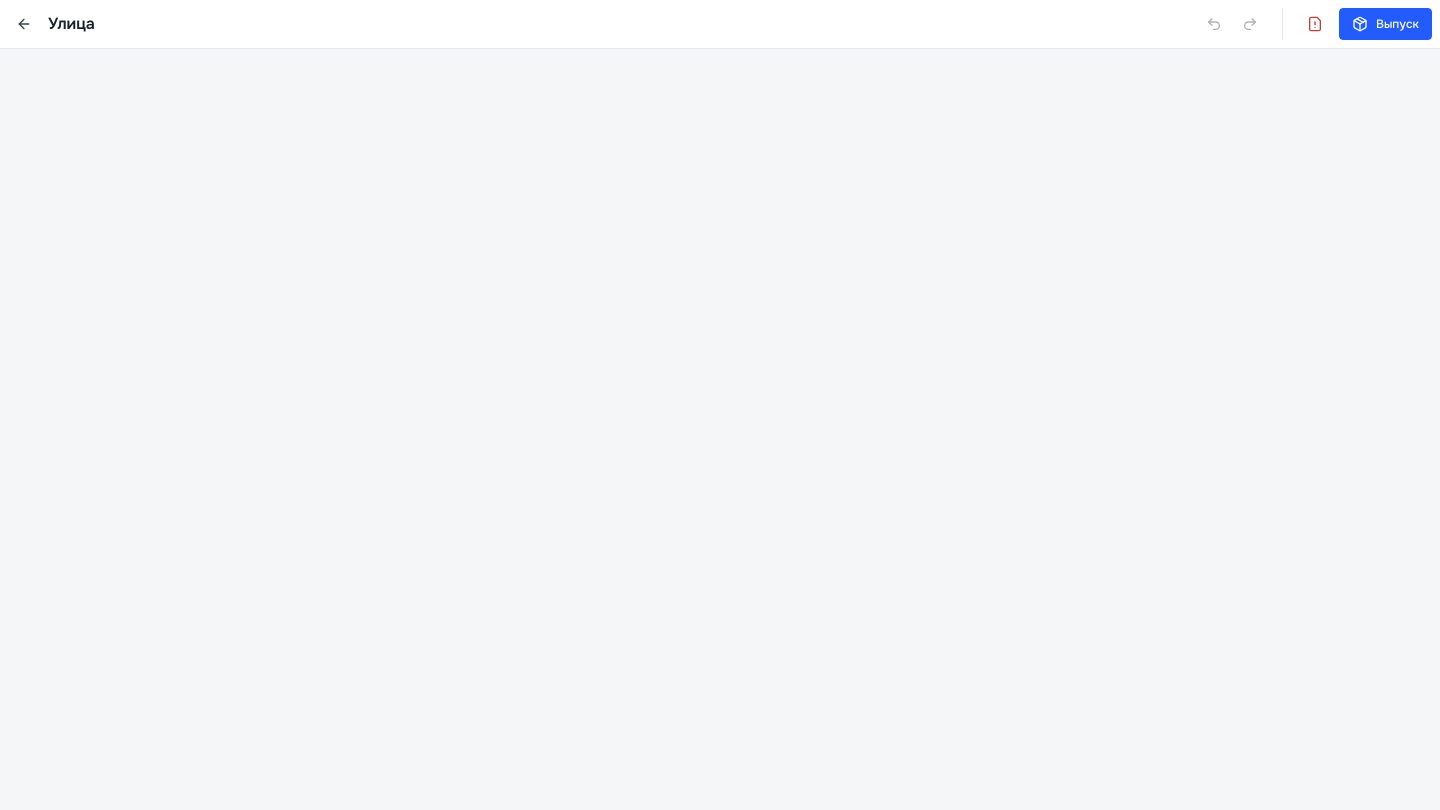
Test: Workspace header actions and status ownership › uses confirmation proof false for a recovery title
Click the button named "Открыть сведения о состоянии проекта".
click(1315, 24)  # box [1299,8,1331,40]
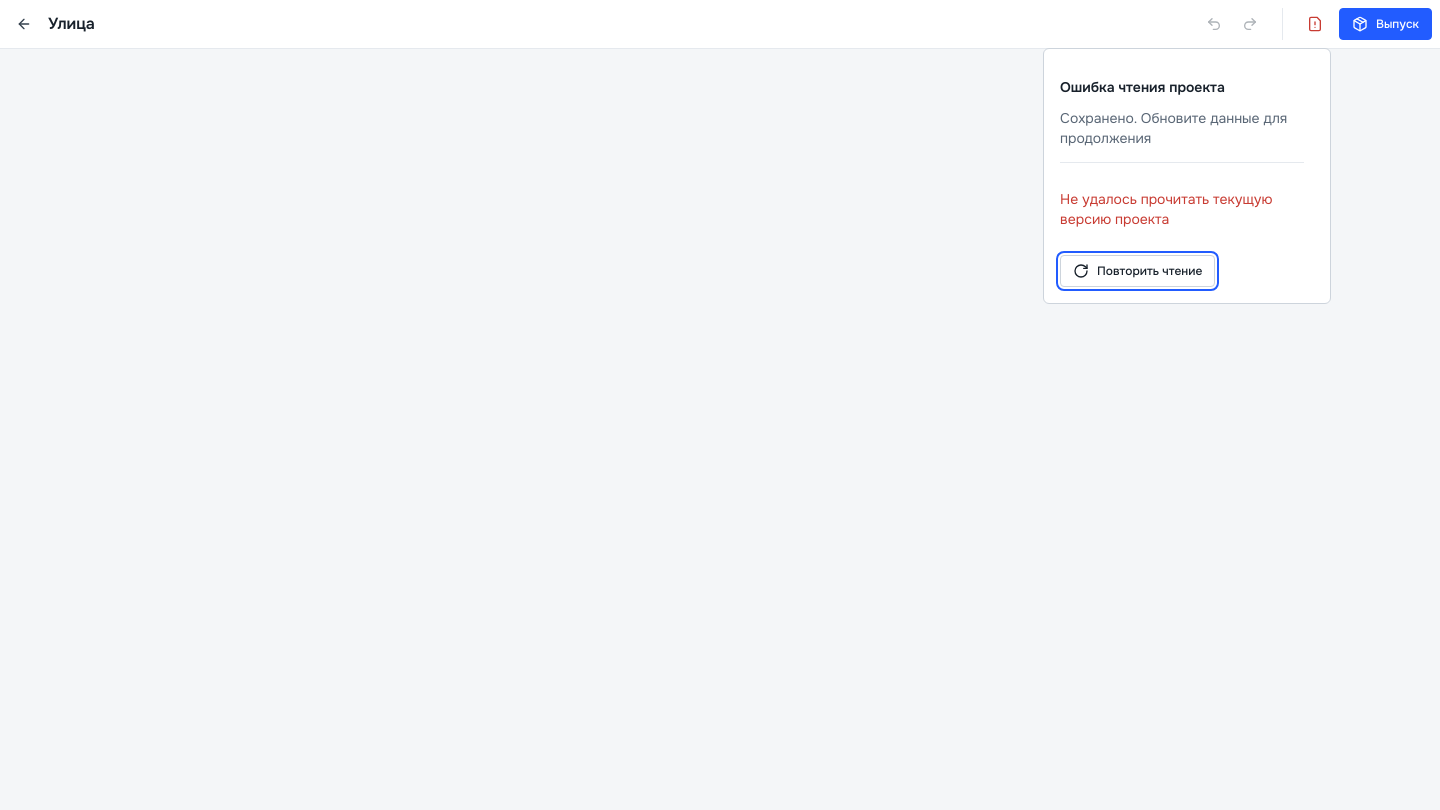
Check: the heading "Ошибка чтения проекта" is shown, box [1060,78,1225,96]
Check: the button "Повторить чтение" is enabled, box [1060,255,1215,287]
